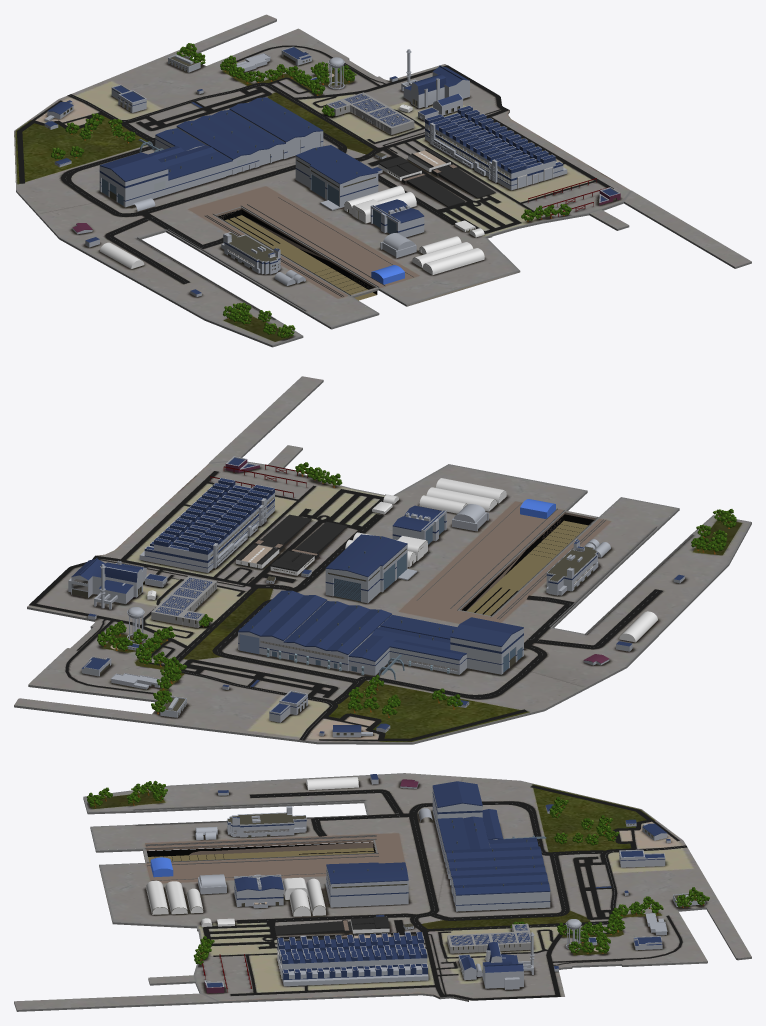
Rendered from philly-area-1.glb.
3 renders of one model, top to bottom at view 1: azimuth 30°, elevation 25°; view 2: azimuth 150°, elevation 25°; view 3: azimuth 270°, elevation 25°, orthographic. The views are drawn at different scales.
Parts seen in each view (by area): view 1: Philly_Area 1; view 2: Philly_Area 1; view 3: Philly_Area 1.
Boxes of the visible parts, bbox=[...] form: Philly_Area 1: bbox=[14, 14, 751, 347]; Philly_Area 1: bbox=[14, 376, 751, 744]; Philly_Area 1: bbox=[14, 773, 751, 1011].
Bounding box in the file's own units: 823 × 75.15 × 1084.
Materials: 36 (13 with a texture image).
